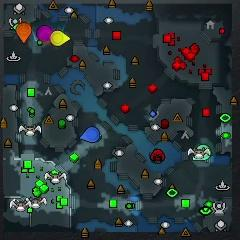p1: (80, 126, 101, 142)
p2: (194, 144, 210, 160)
p3: (37, 25, 53, 42)
p4: (50, 30, 71, 45)
p5: (16, 21, 32, 43)
